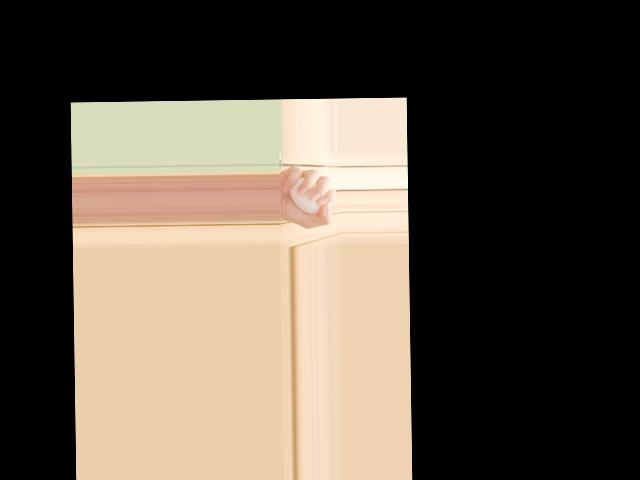egg: (289, 176, 323, 214)
